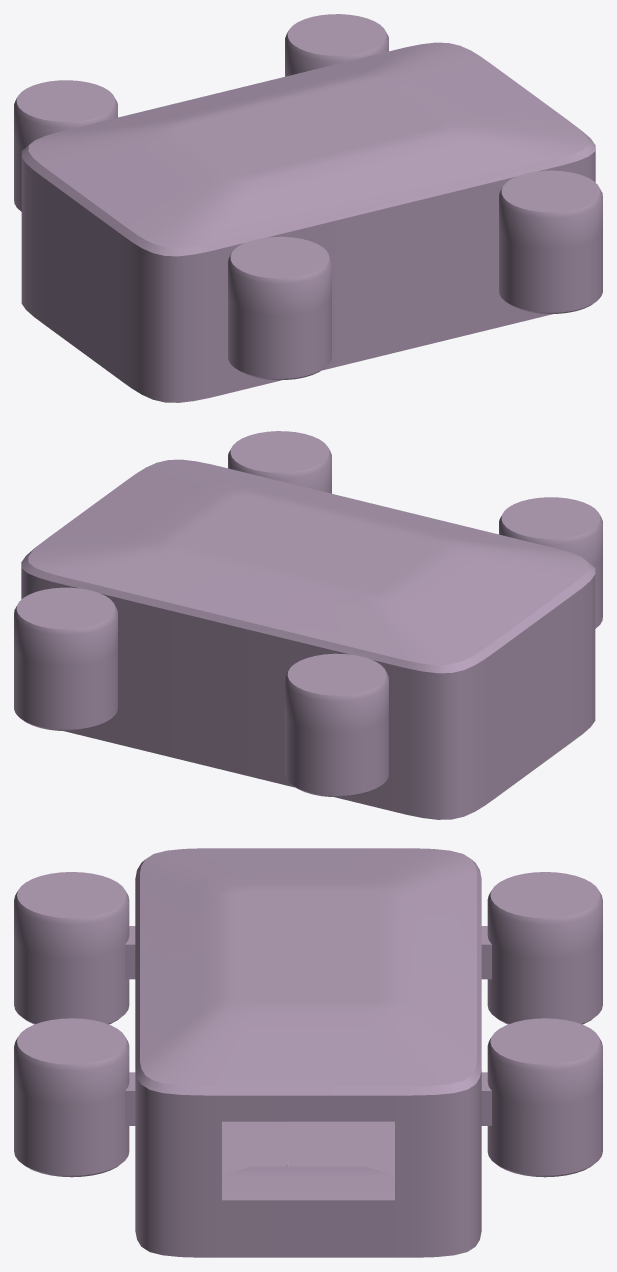
Rendered from spaceship.fbx.
The picture shows the model from 3 angles, top to bottom: view 1: azimuth 30°, elevation 25°; view 2: azimuth 150°, elevation 25°; view 3: azimuth 270°, elevation 25°; orthographic projection. The views are drawn at different scales.
Parts seen in each view (by area): view 1: corpus_low, back engine_low, front engine_low, door_low; view 2: corpus_low, back engine_low, front engine_low, door_low; view 3: corpus_low, front engine_low, back engine_low, panel_low.
Boxes of the visible parts, bbox=[...] form: corpus_low: bbox=[21, 42, 595, 402]; back engine_low: bbox=[14, 80, 331, 380]; front engine_low: bbox=[285, 14, 602, 313]; door_low: bbox=[43, 178, 121, 376]; corpus_low: bbox=[21, 459, 595, 819]; back engine_low: bbox=[285, 497, 602, 797]; front engine_low: bbox=[14, 431, 331, 730]; door_low: bbox=[495, 595, 573, 793]; corpus_low: bbox=[135, 848, 481, 1257]; front engine_low: bbox=[14, 1018, 602, 1177]; back engine_low: bbox=[14, 872, 602, 1024]; panel_low: bbox=[222, 1166, 394, 1197].
Size of the model in its own units: 1000 by 360 by 1020.
